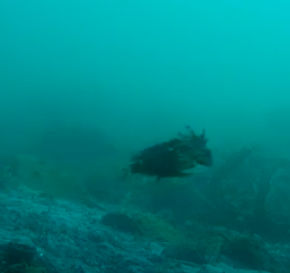smallfish: (117, 119, 221, 189)
